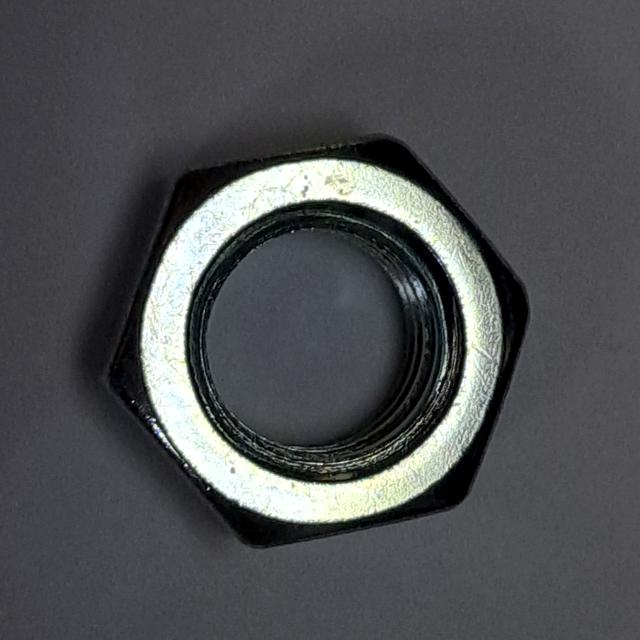Excellent: (75, 115, 546, 568)
